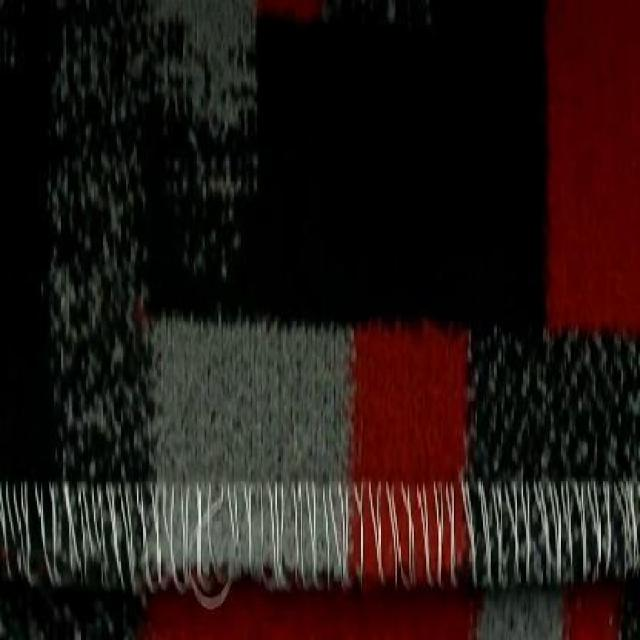gray stitch: (0, 478, 637, 590)
